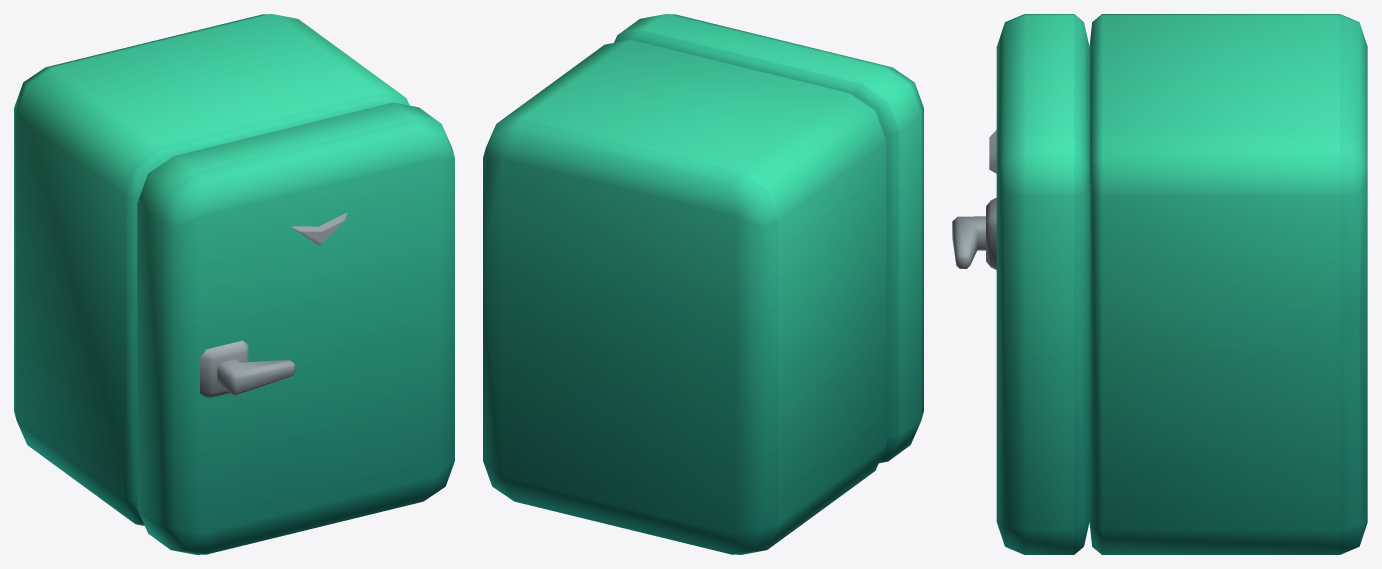
File: kaykit-fridge-b.glb
The picture shows the model from 3 angles, left to right: view 1: azimuth 30°, elevation 25°; view 2: azimuth 150°, elevation 25°; view 3: azimuth 270°, elevation 25°; orthographic projection. The views are drawn at different scales.
Parts seen in each view (by area): view 1: fridge_B; view 2: fridge_B; view 3: fridge_B.
Boxes of the visible parts, <box> form: fridge_B: <box>14,14,454,554</box>; fridge_B: <box>483,14,923,554</box>; fridge_B: <box>952,14,1367,554</box>.
Bounding box in the file's own units: 2 × 2.5 × 2.24.
1 material, 1 textured.
